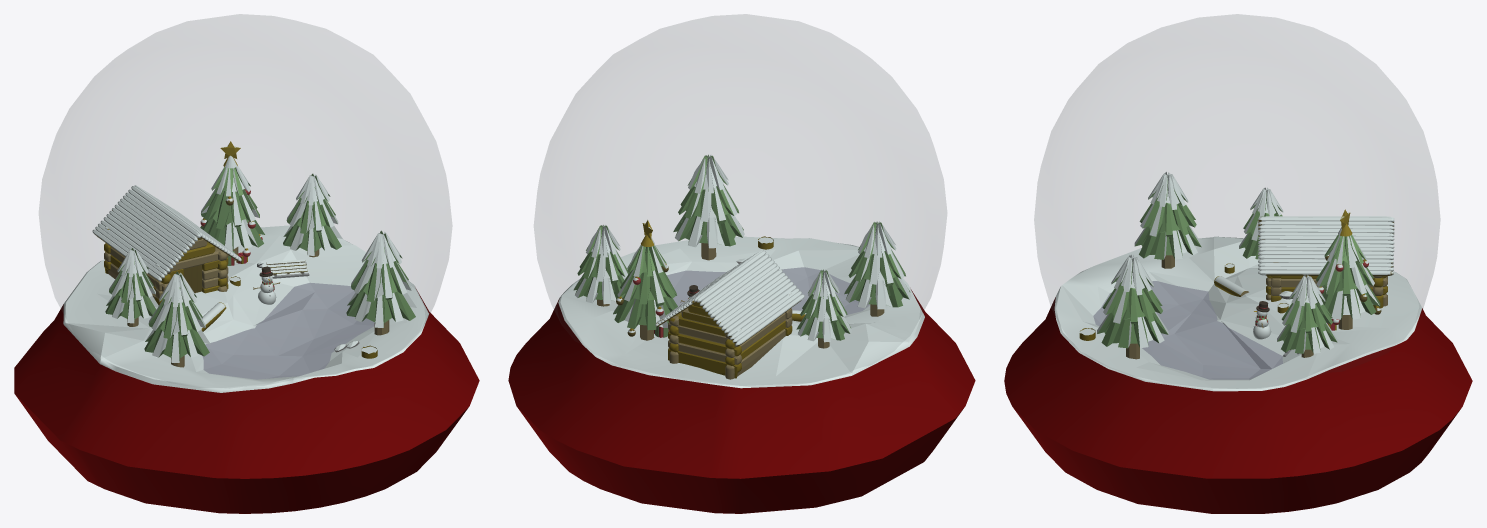
The model's file is snowglobe1.fbx.
3 views of the same model, side by side, from view 1: azimuth 30°, elevation 25°; view 2: azimuth 150°, elevation 25°; view 3: azimuth 270°, elevation 25° (orthographic).
Visible parts, largest first — view 1: pDisc2, pCube146; view 2: pDisc2, pCube146; view 3: pDisc2, pCube146.
Boxes of the visible parts, x1,y1,x2,y2 form: pDisc2: (14, 141, 479, 513); pCube146: (39, 14, 451, 329); pDisc2: (508, 154, 975, 513); pCube146: (534, 14, 946, 321); pDisc2: (1004, 172, 1472, 513); pCube146: (1034, 14, 1439, 324).
Size of the model in its own units: 55.29 by 52.27 by 56.01.
